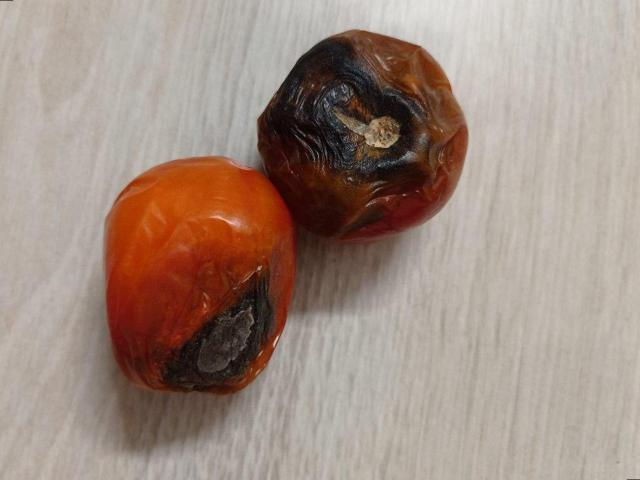defect: (103, 151, 295, 398), (254, 23, 469, 242)
